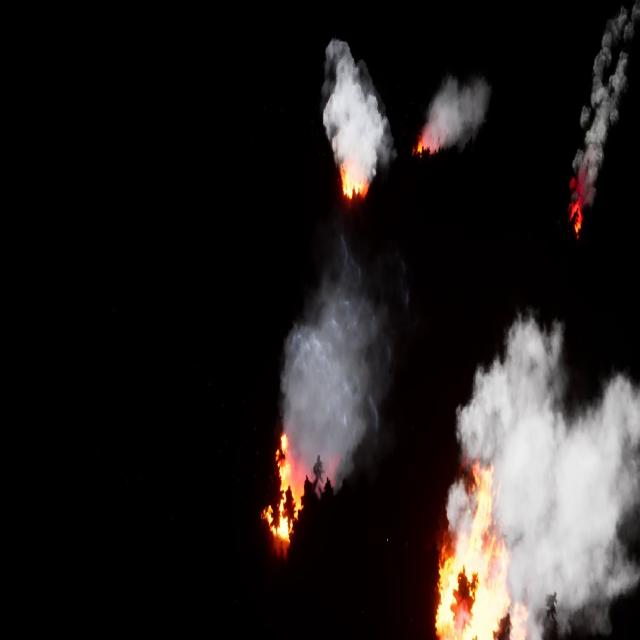fire: (436, 450, 520, 632), (259, 426, 299, 555), (339, 159, 374, 196), (568, 176, 590, 229), (414, 131, 436, 167)
smoke: (454, 303, 640, 639), (286, 251, 386, 510), (576, 0, 640, 164), (318, 39, 394, 176), (425, 66, 497, 154)
